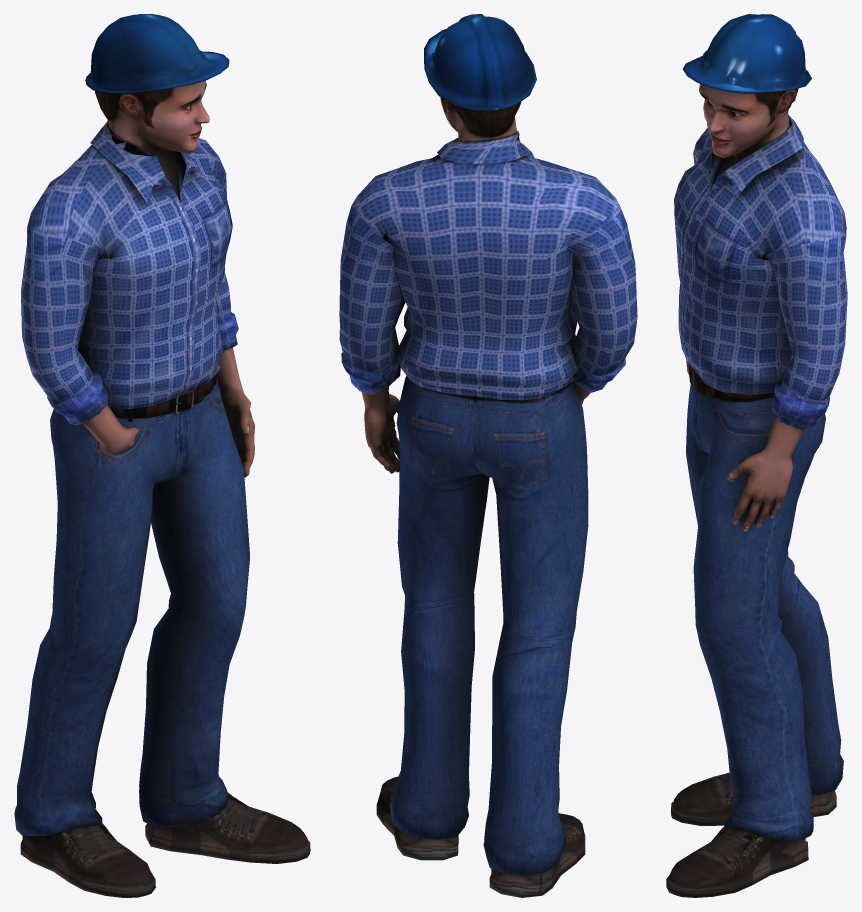
Rendered from SWRK01_02_01.FBX.
3 views of the same model, side by side, from view 1: azimuth 30°, elevation 25°; view 2: azimuth 150°, elevation 25°; view 3: azimuth 270°, elevation 25° (orthographic). The views are drawn at different scales.
Parts seen in each view (by area): view 1: SWRK01_02_01; view 2: SWRK01_02_01; view 3: SWRK01_02_01.
Part boxes in pixels (left/top/right/bottom): SWRK01_02_01: left=14, top=14, right=310, bottom=897; SWRK01_02_01: left=339, top=14, right=637, bottom=897; SWRK01_02_01: left=666, top=14, right=847, bottom=897.
Bounding box in the file's own units: 23.3 × 70.51 × 14.12.
1 material, 1 textured.
